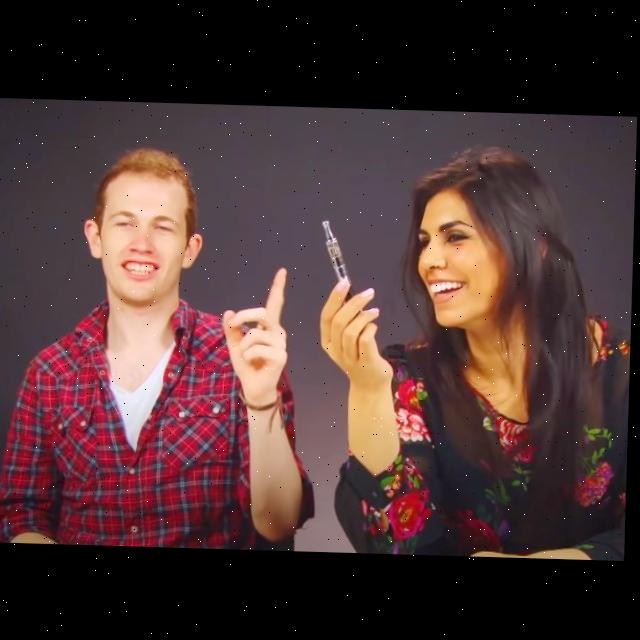vape: (322, 219, 359, 301)
